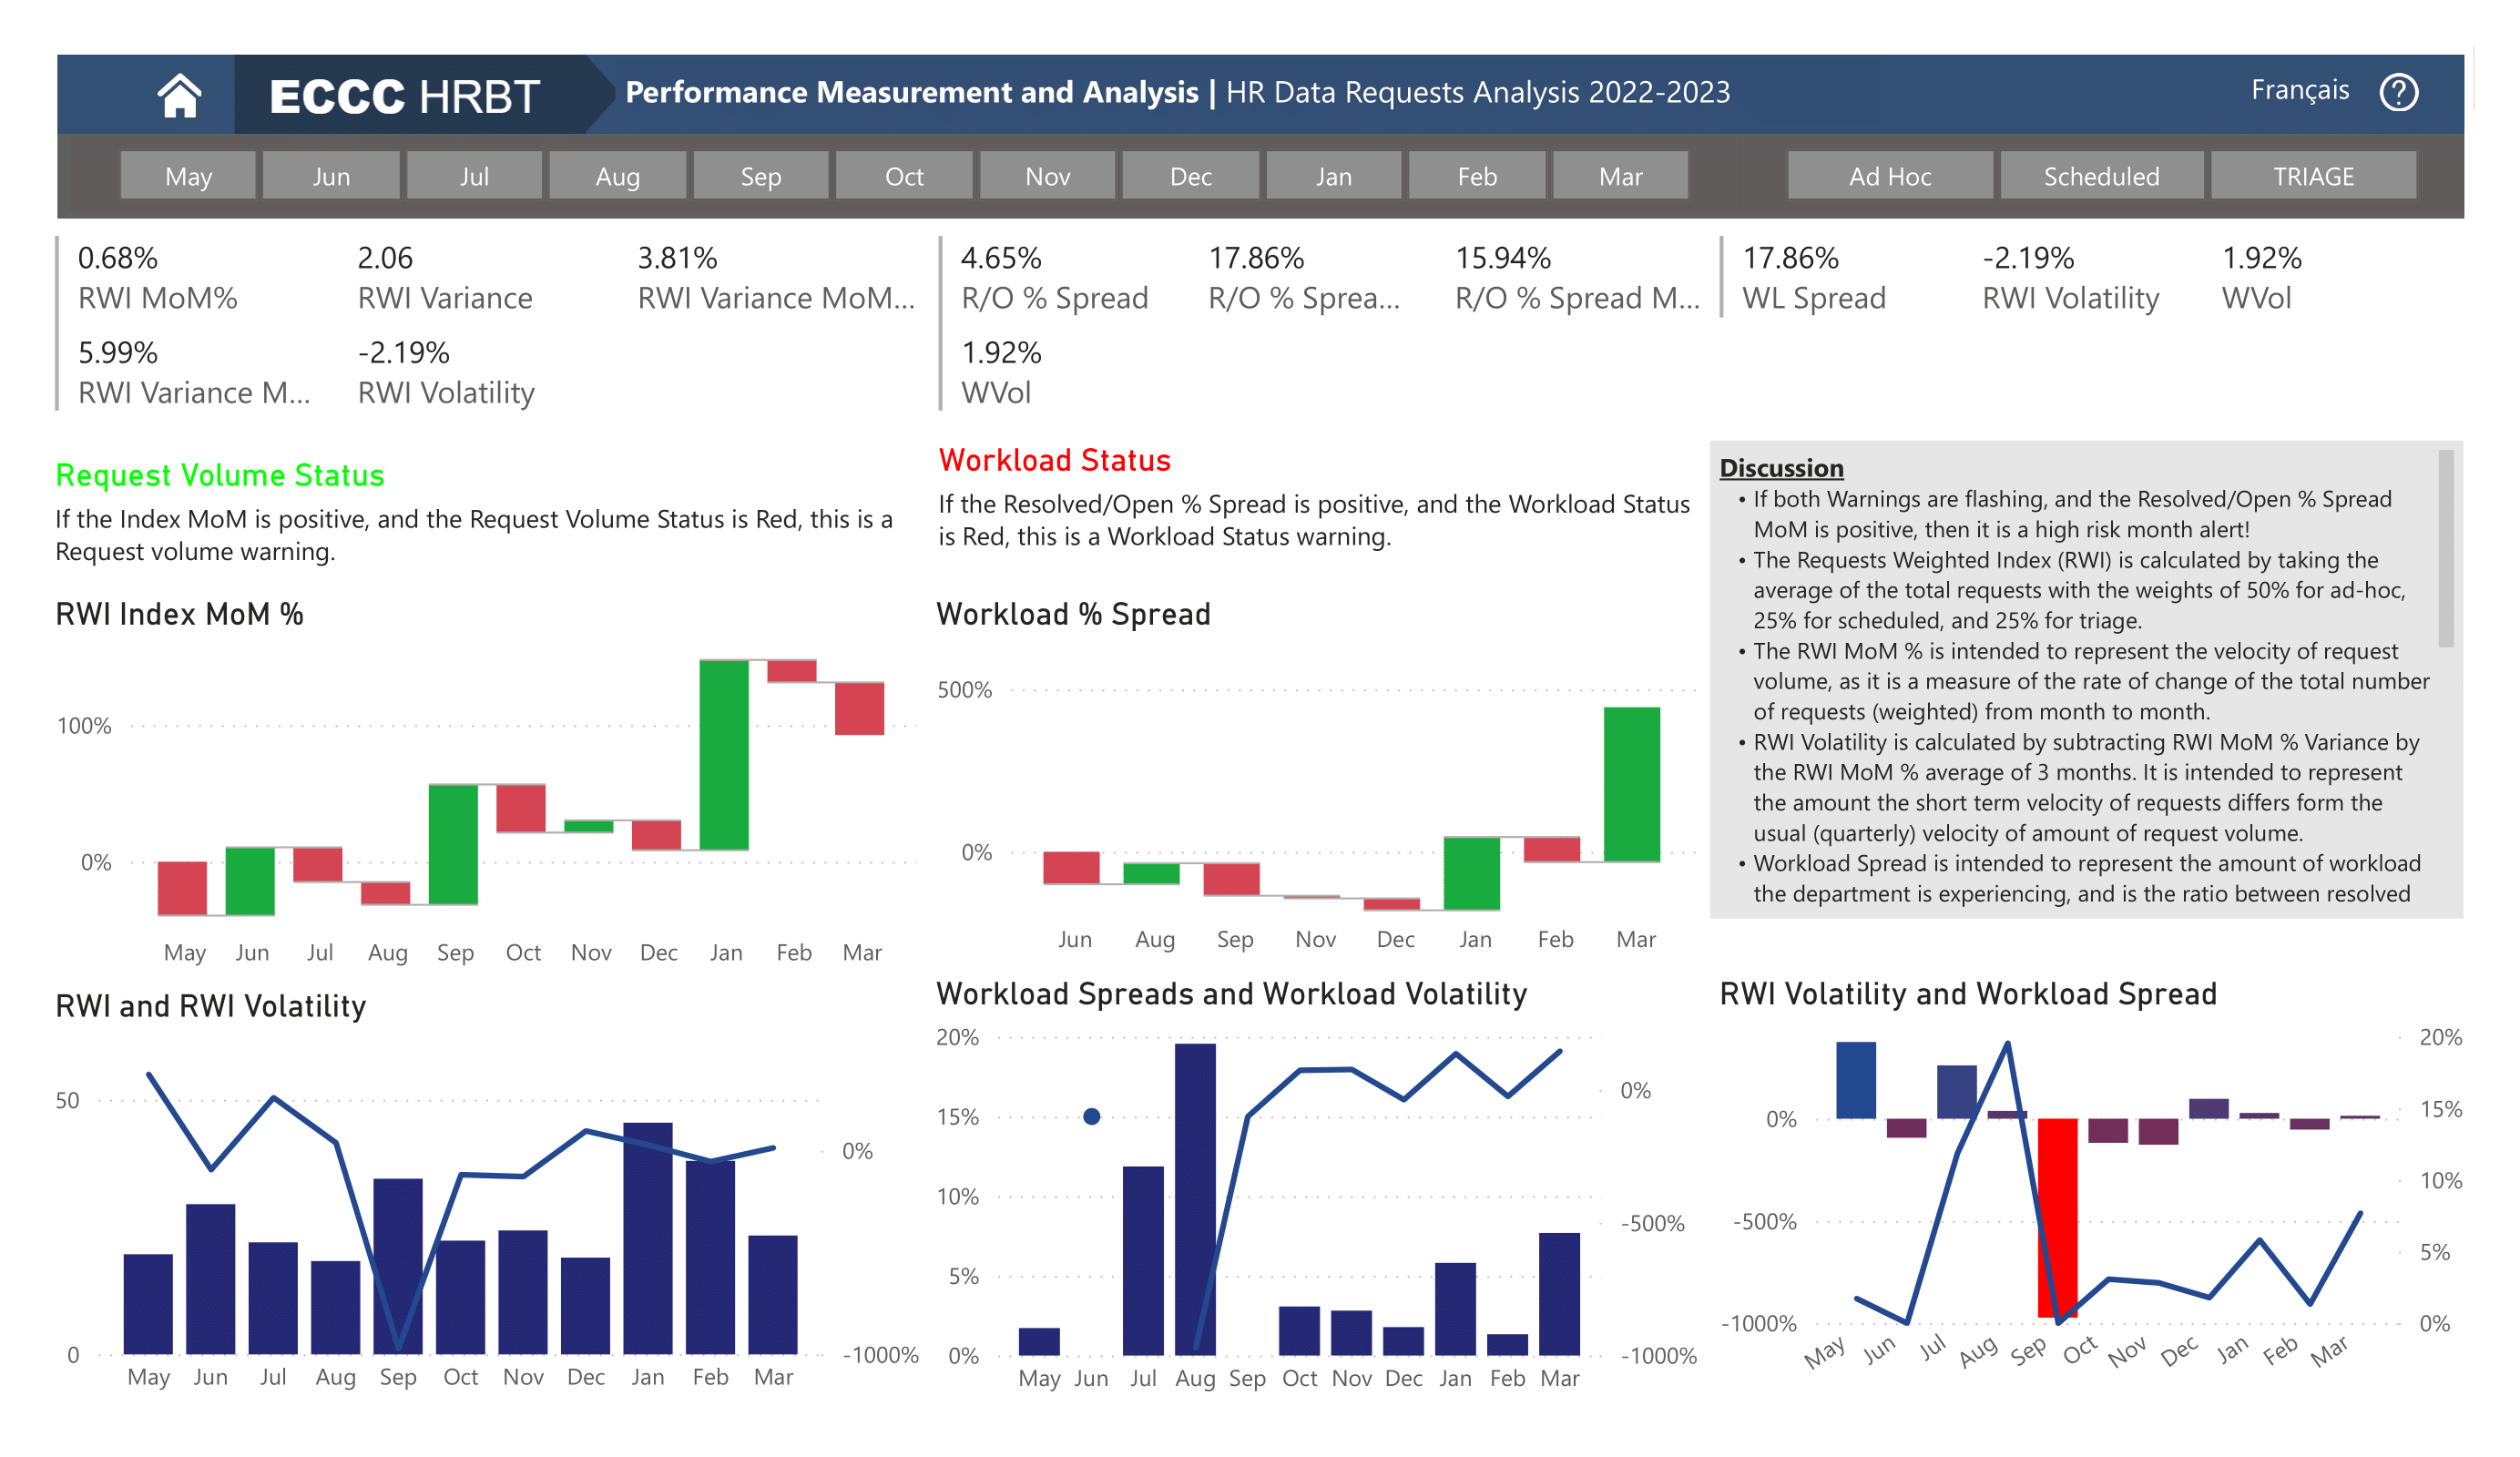

What the dashboard file says about the page in this screenshot:
{"tool":"powerbi","page":{"name":"Risk Index","canvas":[1280,720],"ordinal":10},"visuals":[{"type":"slicer","fields":{"Values":["Date.Date"]},"box":[595.6,132.2,230,103.3],"z":0},{"type":"image","box":[0.9,0,1278.3,96],"z":1000},{"type":"image","box":[54.6,8.8,32.6,32.6],"z":2000},{"type":"actionButton","box":[1159.4,3.1,66.2,38.1],"z":3000},{"type":"image","box":[1225.7,8.8,30,30],"z":4000},{"type":"slicer","fields":{"Values":["HR_DATA_REQUEST_REPORT.INC_CAT_N"]},"box":[891,47.6,382.8,39.8],"z":5000},{"type":"multiRowCard","fields":{"Values":["HR_DATA_REQUEST_REPORT.Requests Weighted Index MoM%","HR_DATA_REQUEST_REPORT.Requests Weighted Index Variance","HR_DATA_REQUEST_REPORT.Requests Weighted Index Variance MoM%","HR_DATA_REQUEST_REPORT.Requests Weighted Index Variance 3MoM%","HR_DATA_REQUEST_REPORT.Requests Weighted Index Variance MoM% minus Requests Weighted Index Variance 3MoM%"]},"box":[0,95.6,464.4,113.3],"z":6000},{"type":"multiRowCard","fields":{"Values":["HR_DATA_REQUEST_REPORT.Resolved/Open % Spread","HR_DATA_REQUEST_REPORT.Resolved/Open % Spread MoM%","HR_DATA_REQUEST_REPORT.Resolved/Open % Spread 3MoM%","HR_DATA_REQUEST_REPORT.Resolved/Open % Spread MoM% minus Resolved/Open % Spread 3MoM%"]},"box":[465.6,95.6,412.2,113.3],"z":7000},{"type":"multiRowCard","fields":{"Values":["HR_DATA_REQUEST_REPORT.Resolved/Open % Spread MoM%","HR_DATA_REQUEST_REPORT.Requests Weighted Index Variance MoM% minus Requests Weighted Index Variance 3MoM%","HR_DATA_REQUEST_REPORT.Resolved/Open % Spread MoM% minus Resolved/Open % Spread 3MoM%"]},"box":[877.8,95.6,401.1,113.3],"z":8000},{"type":"slicer","fields":{"Values":["MonthOrder.MonthOrderDesc"]},"box":[12.6,47.6,878.4,39.8],"z":9000},{"type":"lineClusteredColumnComboChart","title":"Workload Spreads and Workload Volatility","fields":{"Category":["MonthOrder.MonthOrderDesc"],"Y":["HR_DATA_REQUEST_REPORT.Resolved/Open % Spread"],"Y2":["HR_DATA_REQUEST_REPORT.Resolved/Open % Spread MoM% minus Resolved/Open % Spread 3MoM%"]},"box":[464.4,488.9,412.2,231.1],"z":10000},{"type":"textbox","title":"Request Volume Status","box":[0,216.7,464.4,72.2],"z":11000},{"type":"textbox","title":"Workload Status","box":[465.6,208.9,412.2,80],"z":12000},{"type":"waterfallChart","title":"Workload % Spread","fields":{"Y":["HR_DATA_REQUEST_REPORT.Resolved/Open % Spread MoM%"],"Category":["MonthOrder.MonthOrderDesc"]},"box":[464.4,288.9,413.3,200],"z":13000},{"type":"waterfallChart","title":"RWI Index MoM %","fields":{"Category":["MonthOrder.MonthOrderDesc"],"Y":["HR_DATA_REQUEST_REPORT.Requests Weighted Index MoM%"]},"box":[0,288.9,464.4,206.7],"z":14000},{"type":"lineClusteredColumnComboChart","title":"RWI and RWI Volatility","fields":{"Category":["MonthOrder.MonthOrderDesc"],"Y":["HR_DATA_REQUEST_REPORT.Requests Weighted Index"],"Y2":["HR_DATA_REQUEST_REPORT.Requests Weighted Index Variance MoM% minus Requests Weighted Index Variance 3MoM%"]},"box":[0,495.6,465.6,224.4],"z":15000},{"type":"lineClusteredColumnComboChart","title":"RWI Volatility and Workload Spread","fields":{"Category":["MonthOrder.MonthOrderDesc"],"Y":["HR_DATA_REQUEST_REPORT.Requests Weighted Index Variance MoM% minus Requests Weighted Index Variance 3MoM%"],"Y2":["HR_DATA_REQUEST_REPORT.Resolved/Open % Spread"]},"box":[877.8,488.9,402.2,231.1],"z":16000},{"type":"textbox","box":[877.8,208.9,396.7,252.2],"z":17000},{"type":"textbox","box":[300,8,666,33],"z":18000}]}

Visuals, with their boxes on the page's 1280x720 design canvas (x1, y1, x2, y2). These are canvas units, not pixel positions in the 2520x1457 screenshot, which may show the page scaled, cropped or inside an application window:
slicer - Date.Date: 596,132,826,236
image: 1,0,1279,96
image: 55,9,87,41
actionButton: 1159,3,1226,41
image: 1226,9,1256,39
slicer - HR_DATA_REQUEST_REPORT.INC_CAT_N: 891,48,1274,87
multiRowCard - HR_DATA_REQUEST_REPORT.Requests Weighted Index MoM% x HR_DATA_REQUEST_REPORT.Requests Weighted Index Variance: 0,96,464,209
multiRowCard - HR_DATA_REQUEST_REPORT.Resolved/Open % Spread x HR_DATA_REQUEST_REPORT.Resolved/Open % Spread MoM%: 466,96,878,209
multiRowCard - HR_DATA_REQUEST_REPORT.Resolved/Open % Spread MoM% x HR_DATA_REQUEST_REPORT.Requests Weighted Index Variance MoM% minus Requests Weighted Index Variance 3MoM%: 878,96,1279,209
slicer - MonthOrder.MonthOrderDesc: 13,48,891,87
"Workload Spreads and Workload Volatility" lineClusteredColumnComboChart: 464,489,877,720
"Request Volume Status" textbox: 0,217,464,289
"Workload Status" textbox: 466,209,878,289
"Workload % Spread" waterfallChart: 464,289,878,489
"RWI Index MoM %" waterfallChart: 0,289,464,496
"RWI and RWI Volatility" lineClusteredColumnComboChart: 0,496,466,720
"RWI Volatility and Workload Spread" lineClusteredColumnComboChart: 878,489,1280,720
textbox: 878,209,1274,461
textbox: 300,8,966,41
